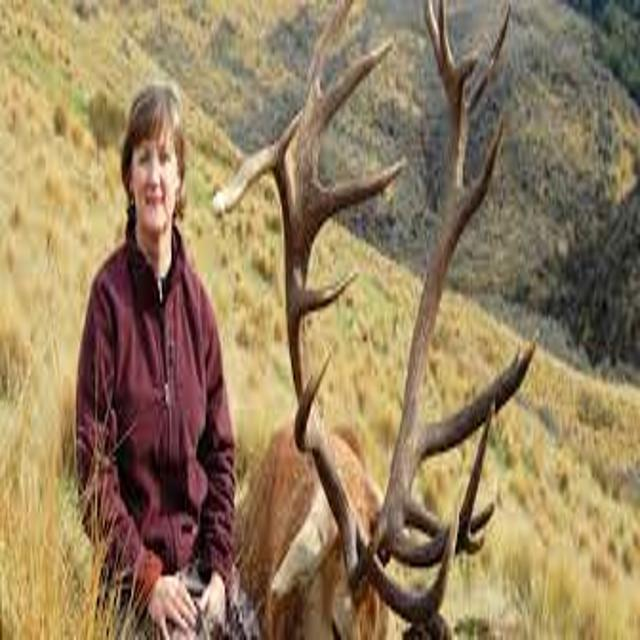poacher: (15, 57, 314, 640)
